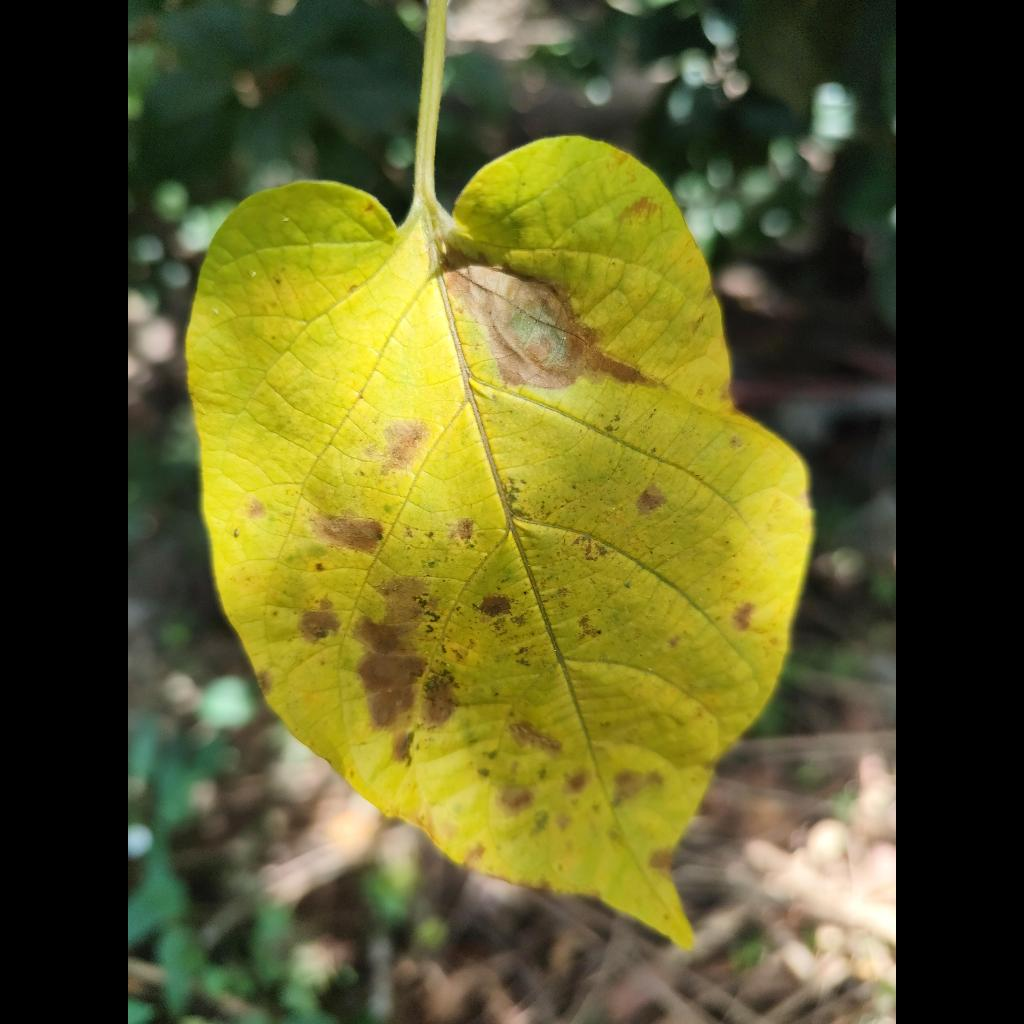deficiencia_nutricional: (187, 0, 810, 944)
